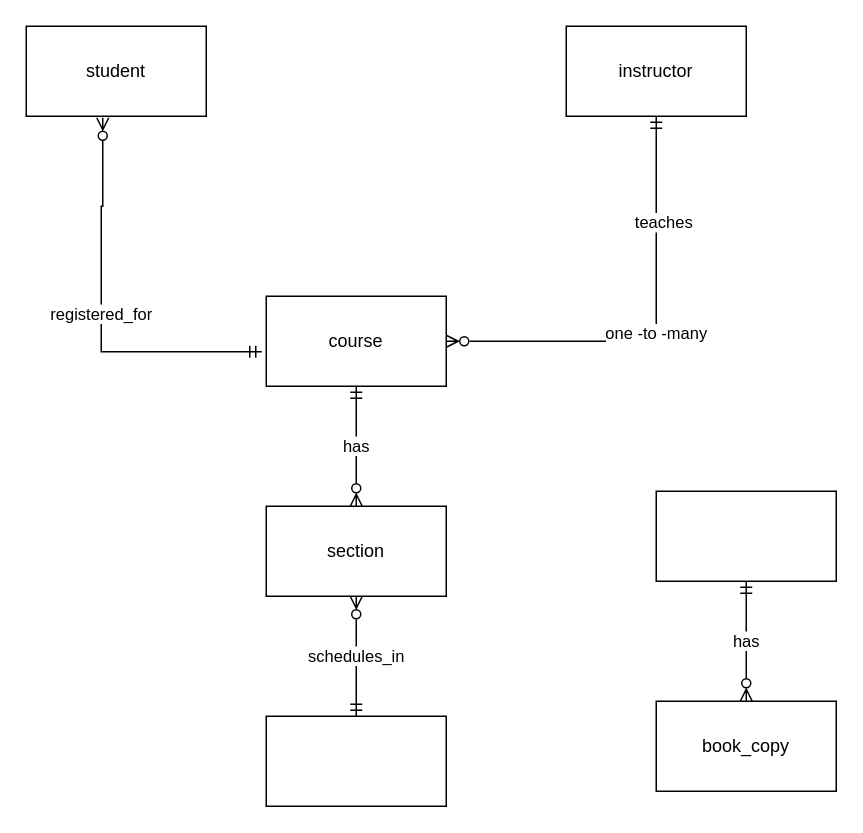
The diagram is 863 pixels wide and 833 high, and some of its shapes have lost their labels. The centre of each missing label's shape, as x and y in pixels:
"book" belongs at [745,535].
"room" belongs at [355,760].
